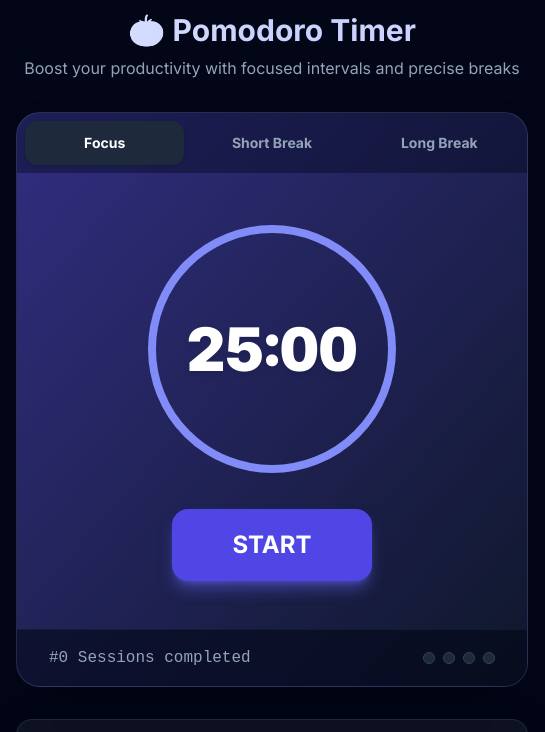
it: Pomodoro Timer › switching to short break changes timer display
This screenshot has width=545, height=732.
# Use getAllByText and click the button (first one)
Click the button "Short Break": (272, 143) 192,121 -> 352,165
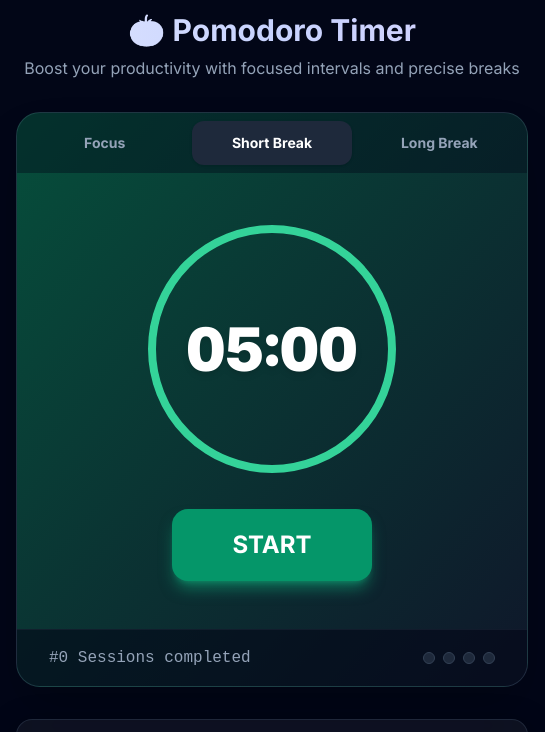
Result: the text "05:00" is shown at 187,319 -> 357,379
